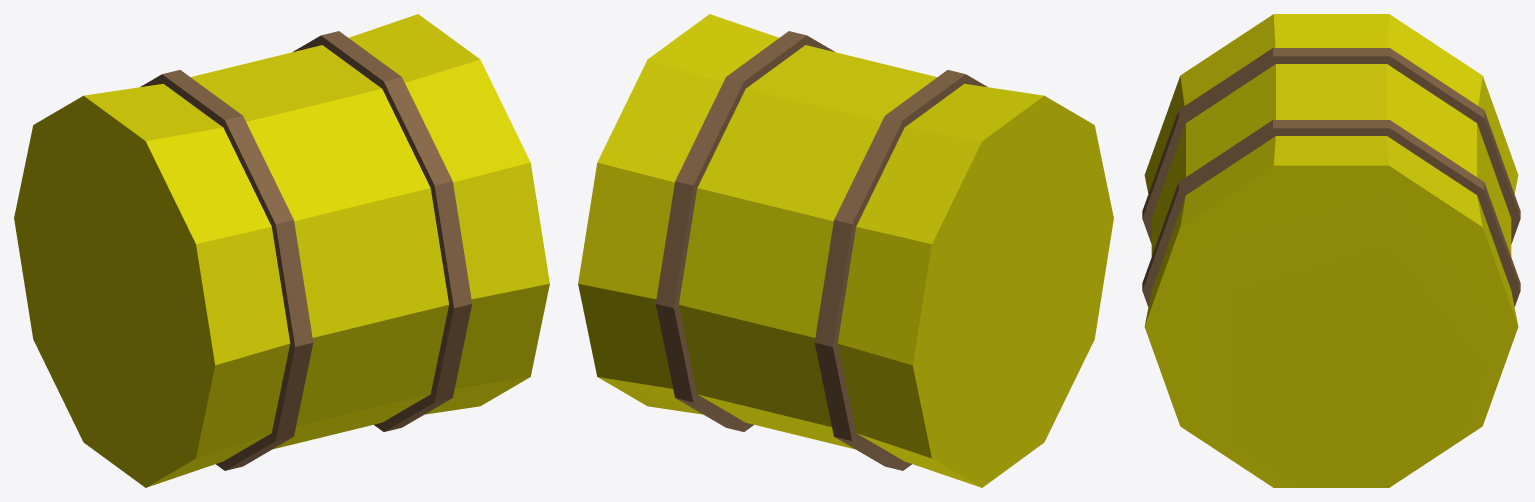
Rendered from lilRoundHay.fbx.
The picture shows the model from 3 angles, left to right: view 1: azimuth 30°, elevation 25°; view 2: azimuth 150°, elevation 25°; view 3: azimuth 270°, elevation 25°; orthographic projection. The views are drawn at different scales.
Visible parts, largest first — view 1: LilRoundHay; view 2: LilRoundHay; view 3: LilRoundHay.
Part boxes in pixels (bbox=[...]): LilRoundHay: bbox=[14, 14, 549, 487]; LilRoundHay: bbox=[578, 14, 1113, 487]; LilRoundHay: bbox=[1142, 14, 1520, 487].
Bounding box in the file's own units: 165 × 165 × 174.
